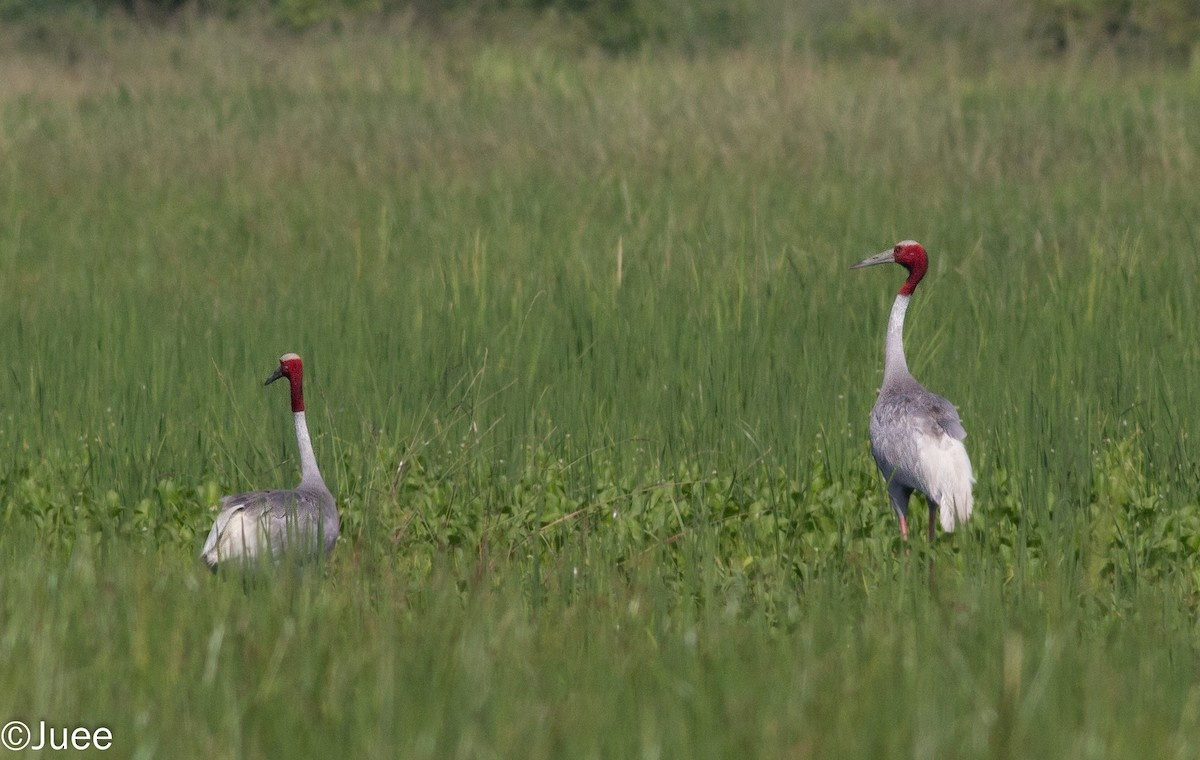crane: (849, 234, 980, 558), (201, 347, 355, 580)
